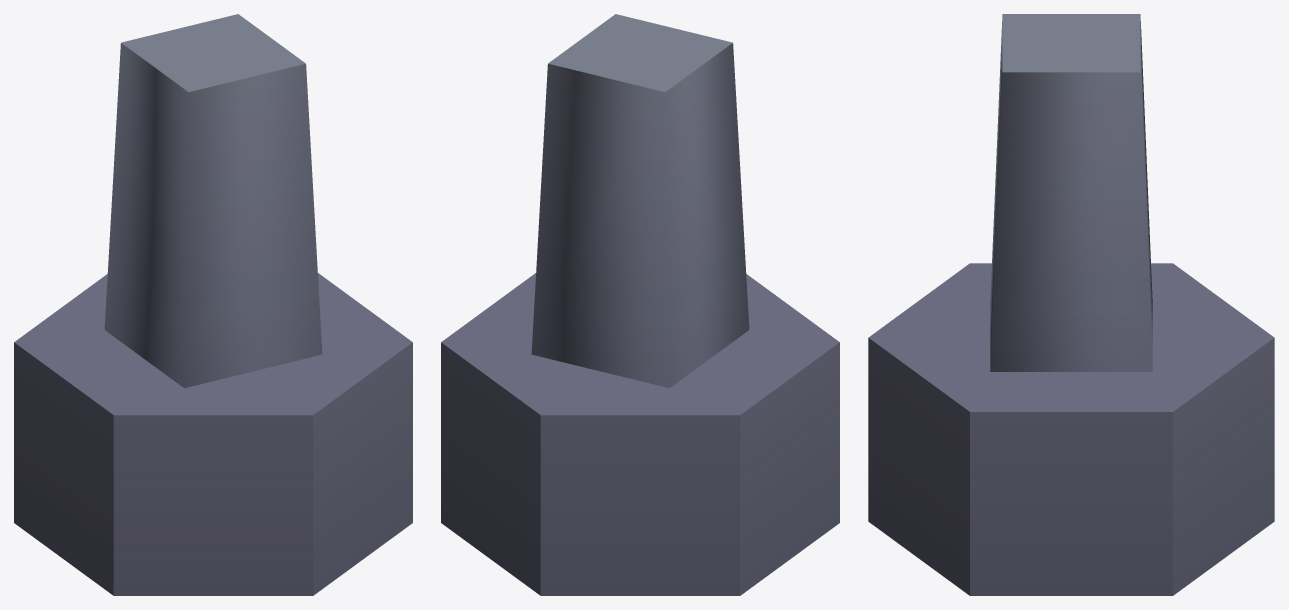
Rendered from debris-bolt.glb.
3 renders of one model, left to right at view 1: azimuth 30°, elevation 25°; view 2: azimuth 150°, elevation 25°; view 3: azimuth 270°, elevation 25°, orthographic.
Parts seen in each view (by area): view 1: debris-bolt; view 2: debris-bolt; view 3: debris-bolt.
Part boxes in pixels (x1,y1,x2,y2): debris-bolt: (14,14,412,595); debris-bolt: (441,14,839,595); debris-bolt: (868,14,1274,595).
Bounding box in the file's own units: 0.1732 × 0.26 × 0.2.
1 material, 1 textured.
